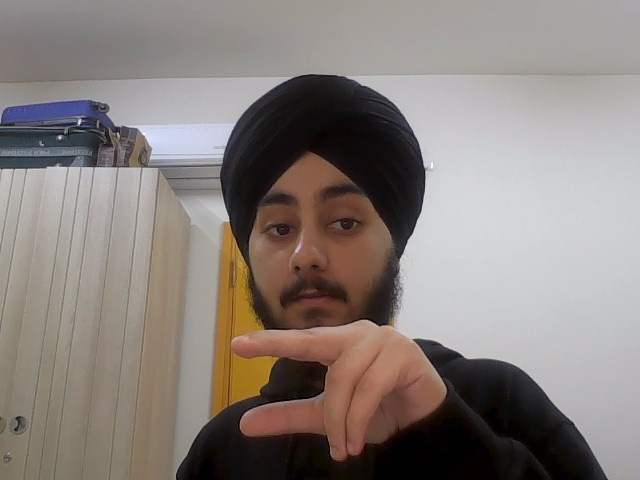No: (232, 316, 452, 461)
